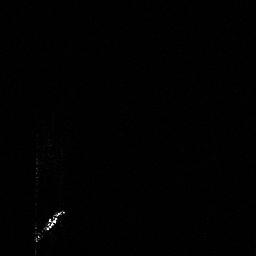ship: (30, 206, 70, 246)
